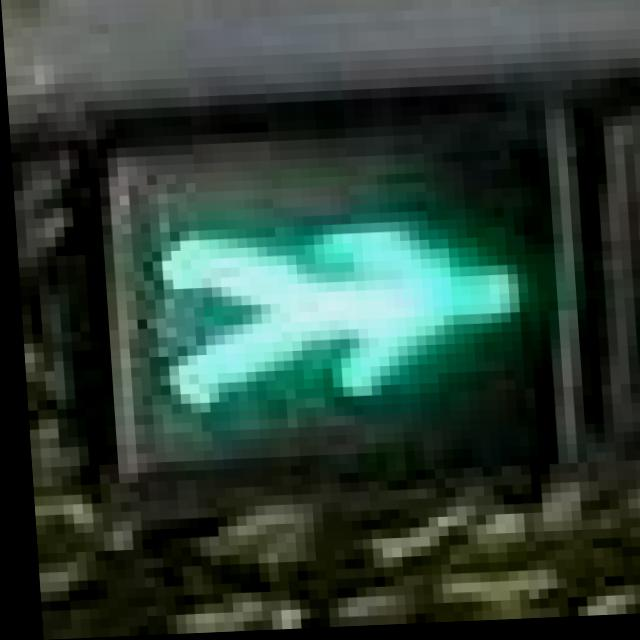green_light: (124, 153, 570, 483)
